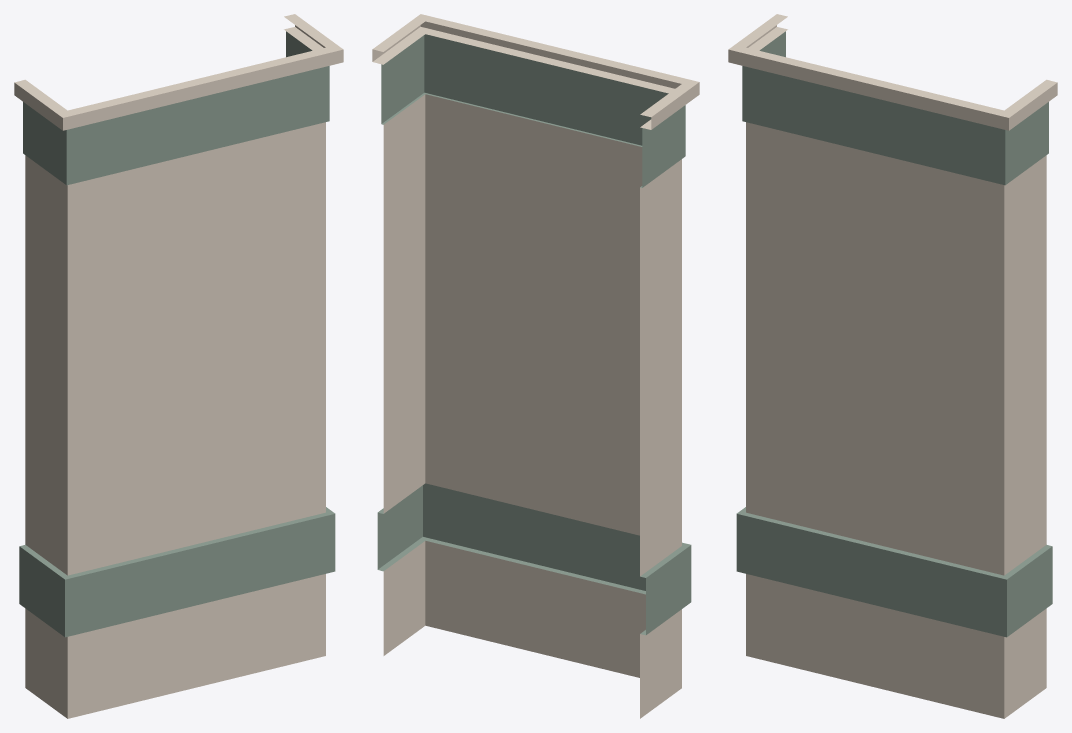
File: bld_addon_02.fbx
3 views of the same model, side by side, from view 1: azimuth 30°, elevation 25°; view 2: azimuth 150°, elevation 25°; view 3: azimuth 330°, elevation 25° (orthographic).
Visible parts, largest first — view 1: bld_addon_02; view 2: bld_addon_02; view 3: bld_addon_02.
Part boxes in pixels (x1,y1,x2,y2): bld_addon_02: [14, 14, 343, 718]; bld_addon_02: [372, 14, 699, 718]; bld_addon_02: [728, 14, 1057, 718].
Size of the model in its own units: 411 by 852 by 124.
